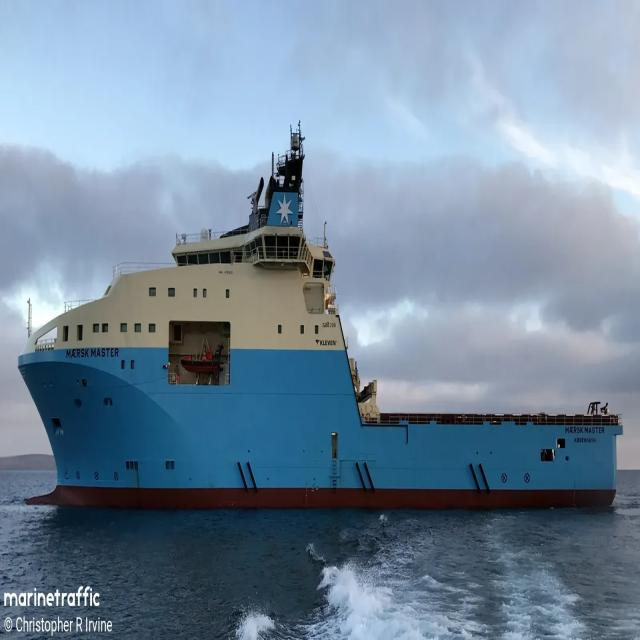Offshore: (18, 122, 623, 508)
